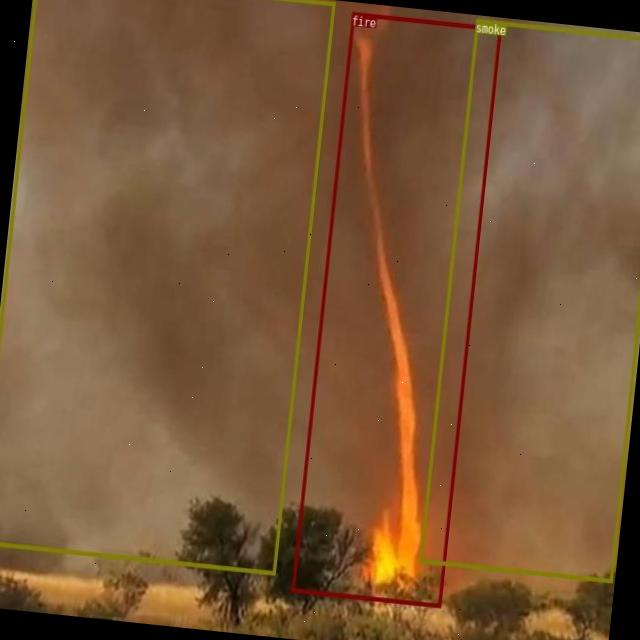fire: (290, 11, 500, 606)
smoke: (0, 0, 334, 573), (418, 17, 640, 581)
